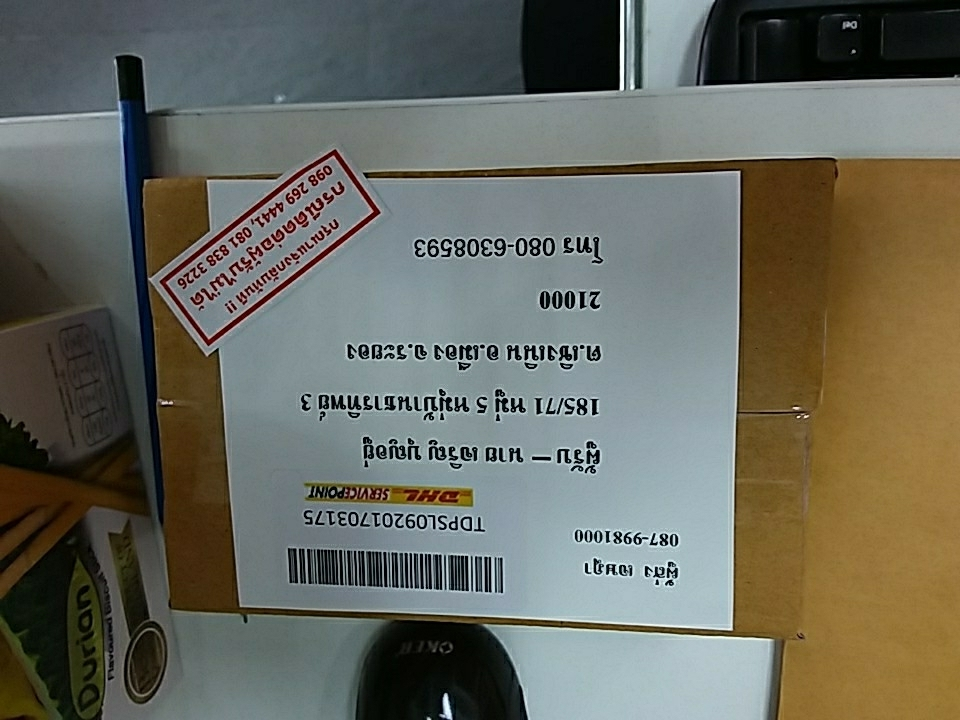ba: (265, 467, 536, 612)
txt: (296, 229, 614, 479)
